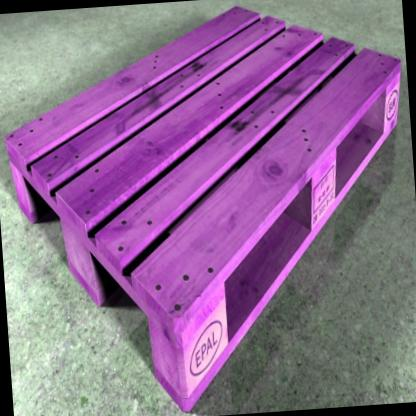BoxFace: (1, 2, 401, 416)
